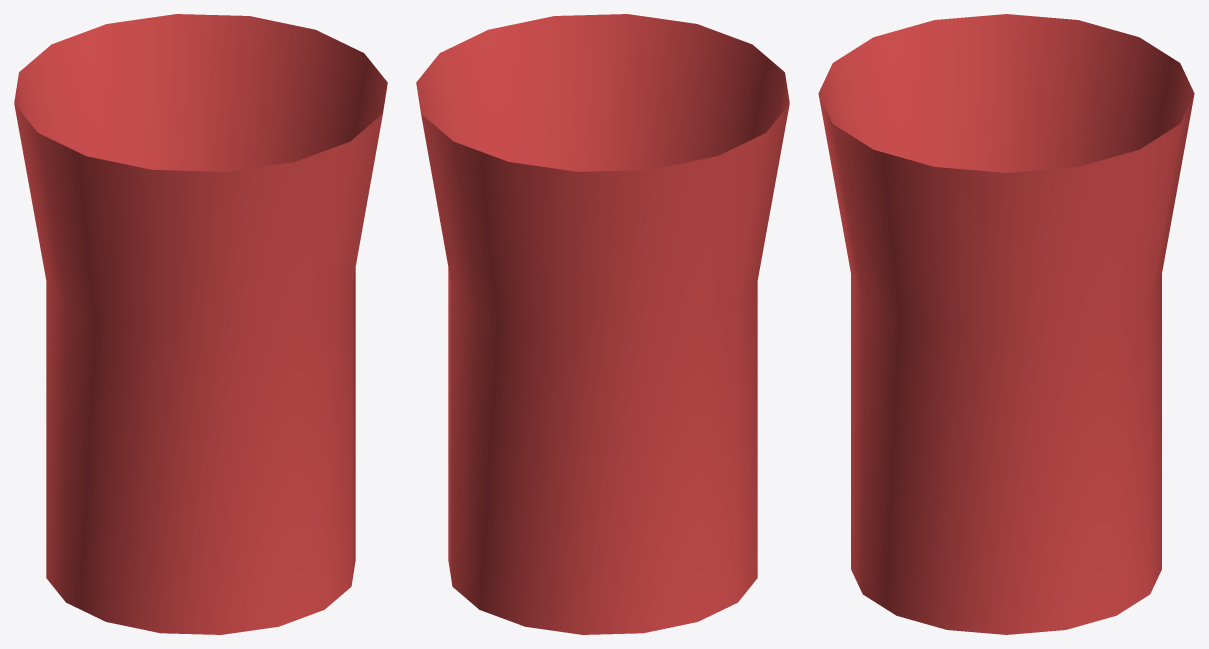
The model's file is SM_FireBurstCastedSkillFloorFlameObject.fbx.
3 renders of one model, left to right at view 1: azimuth 30°, elevation 25°; view 2: azimuth 150°, elevation 25°; view 3: azimuth 270°, elevation 25°, orthographic.
Parts seen in each view (by area): view 1: Cylinder.001; view 2: Cylinder.001; view 3: Cylinder.001.
Part boxes in pixels (x1,y1,x2,y2): Cylinder.001: [14, 14, 387, 634]; Cylinder.001: [416, 14, 789, 634]; Cylinder.001: [818, 14, 1194, 634].
Size of the model in its own units: 242 by 338 by 242.
